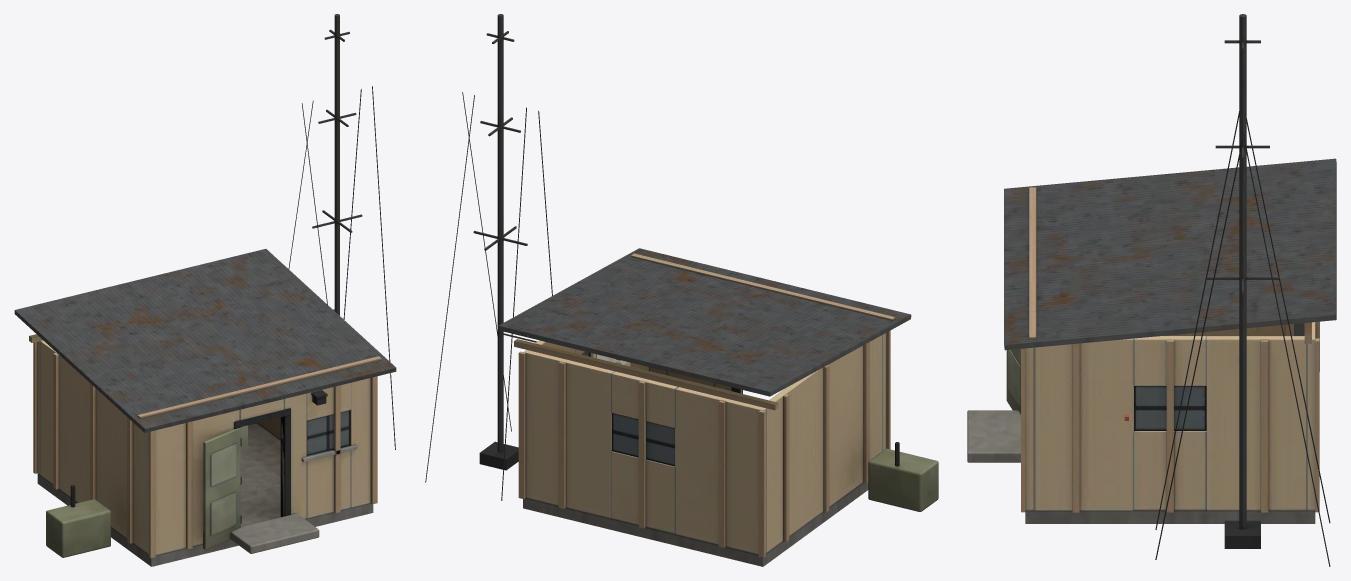
The model's file is d_radio.glb.
3 renders of one model, left to right at view 1: azimuth 30°, elevation 25°; view 2: azimuth 150°, elevation 25°; view 3: azimuth 270°, elevation 25°, orthographic. The views are drawn at different scales.
Parts seen in each view (by area): view 1: BldR_Shell, BldR_Roof; view 2: BldR_Shell, BldR_Roof; view 3: BldR_Roof, BldR_Shell.
Part boxes in pixels (bbox=[...]): BldR_Shell: bbox=[33, 309, 377, 566]; BldR_Roof: bbox=[14, 14, 396, 449]; BldR_Shell: bbox=[502, 330, 938, 566]; BldR_Roof: bbox=[425, 14, 911, 500]; BldR_Roof: bbox=[1004, 14, 1336, 566]; BldR_Shell: bbox=[967, 321, 1319, 523].
Size of the model in its own units: 7.62 by 8.2 by 5.09.
3 materials, 3 textured.
